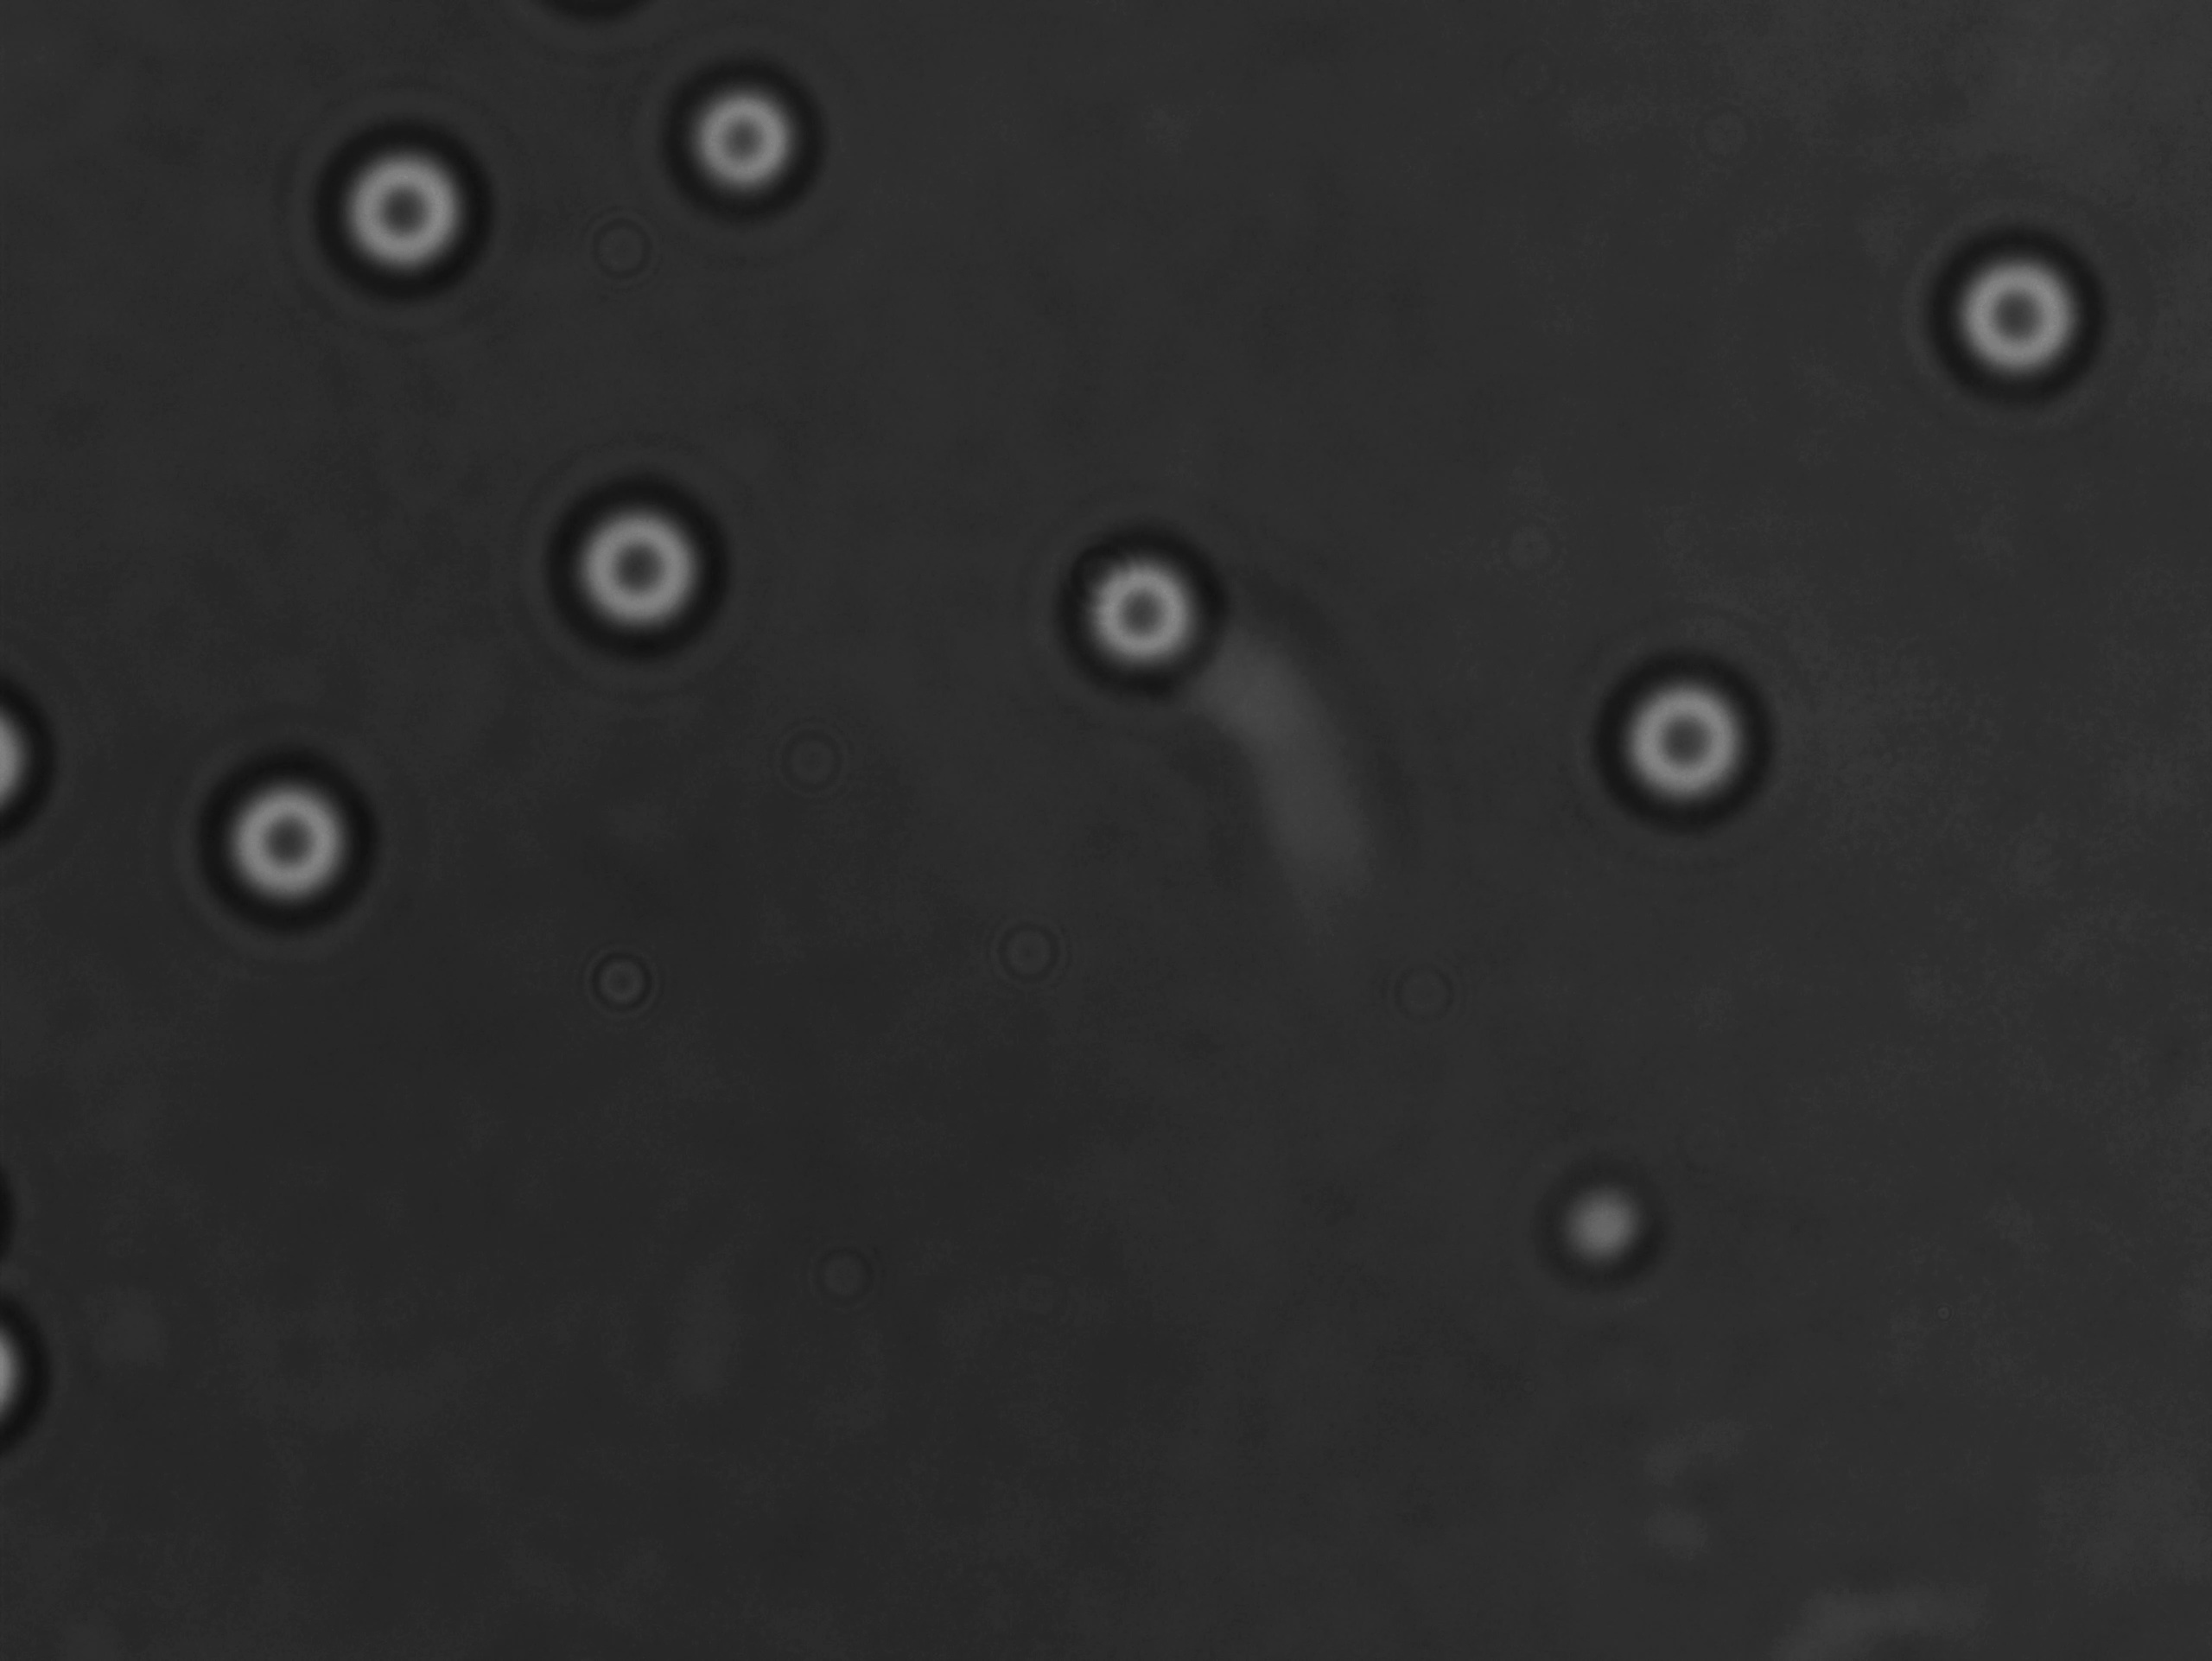depth:80: (1915, 223, 2163, 440), (525, 466, 748, 673), (1580, 637, 1792, 834), (1041, 515, 1239, 707), (190, 738, 372, 946), (304, 115, 508, 291), (663, 58, 850, 239)
